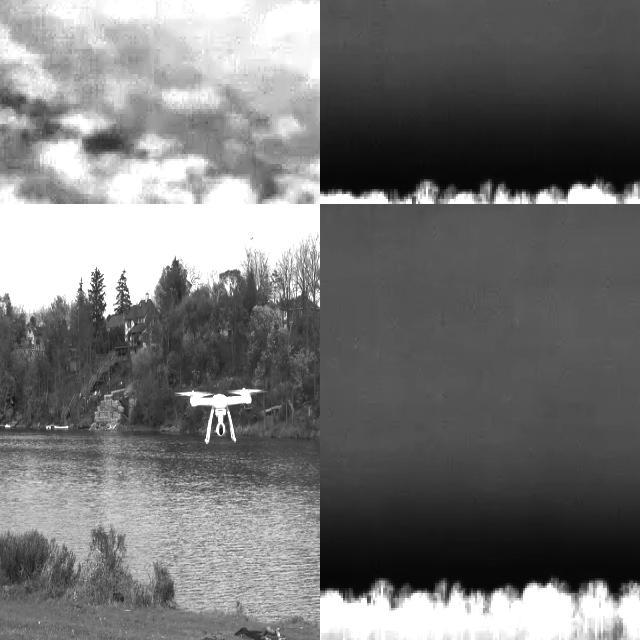0: (52, 142, 90, 184)
drone: (188, 383, 255, 451)
